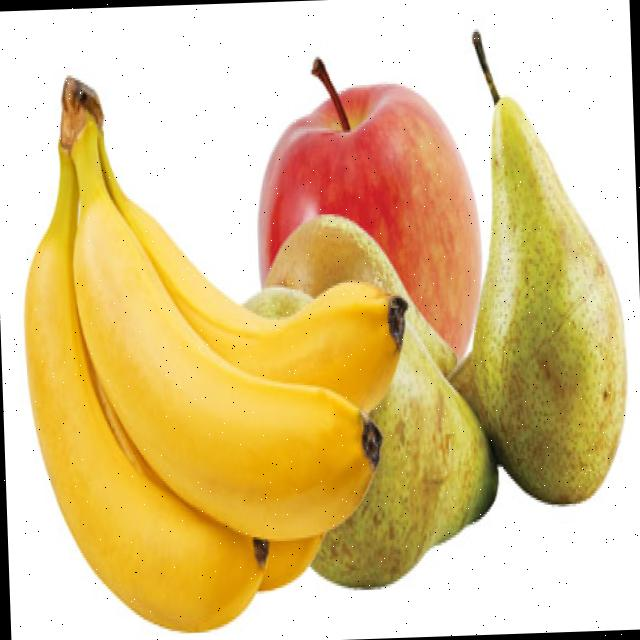Apel: (251, 48, 487, 371)
Pisang: (15, 61, 420, 635)
